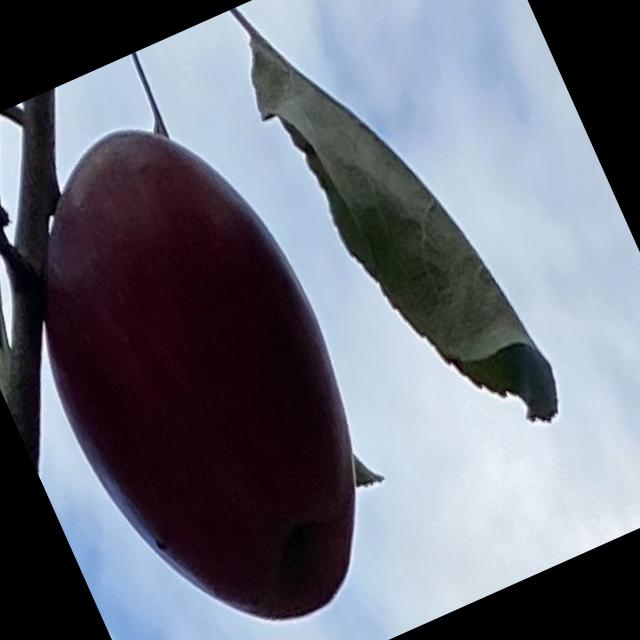Apples: (0, 86, 426, 639)
